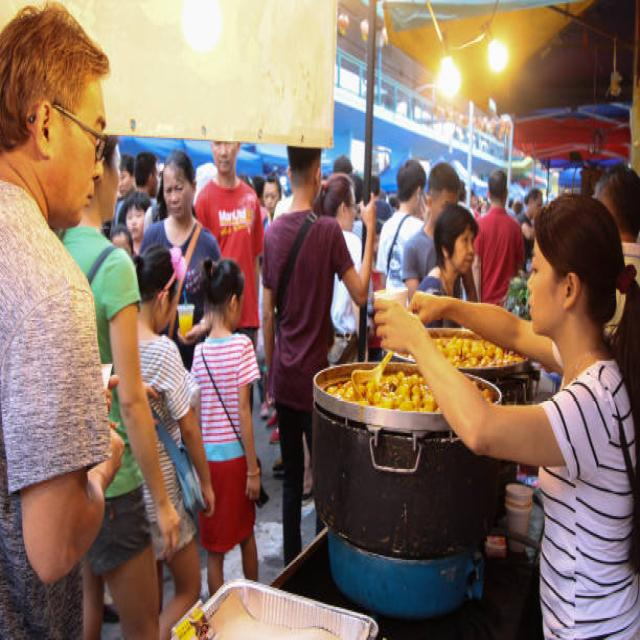Emperan: (162, 153, 640, 640)
